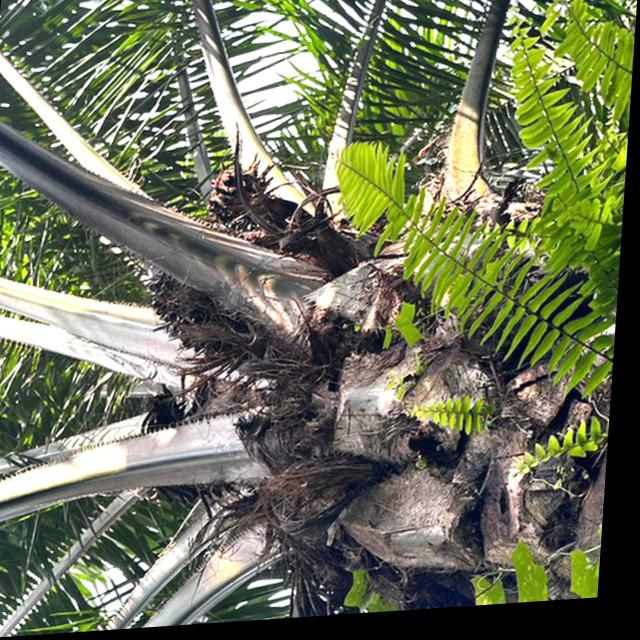almost: (137, 263, 278, 379)
